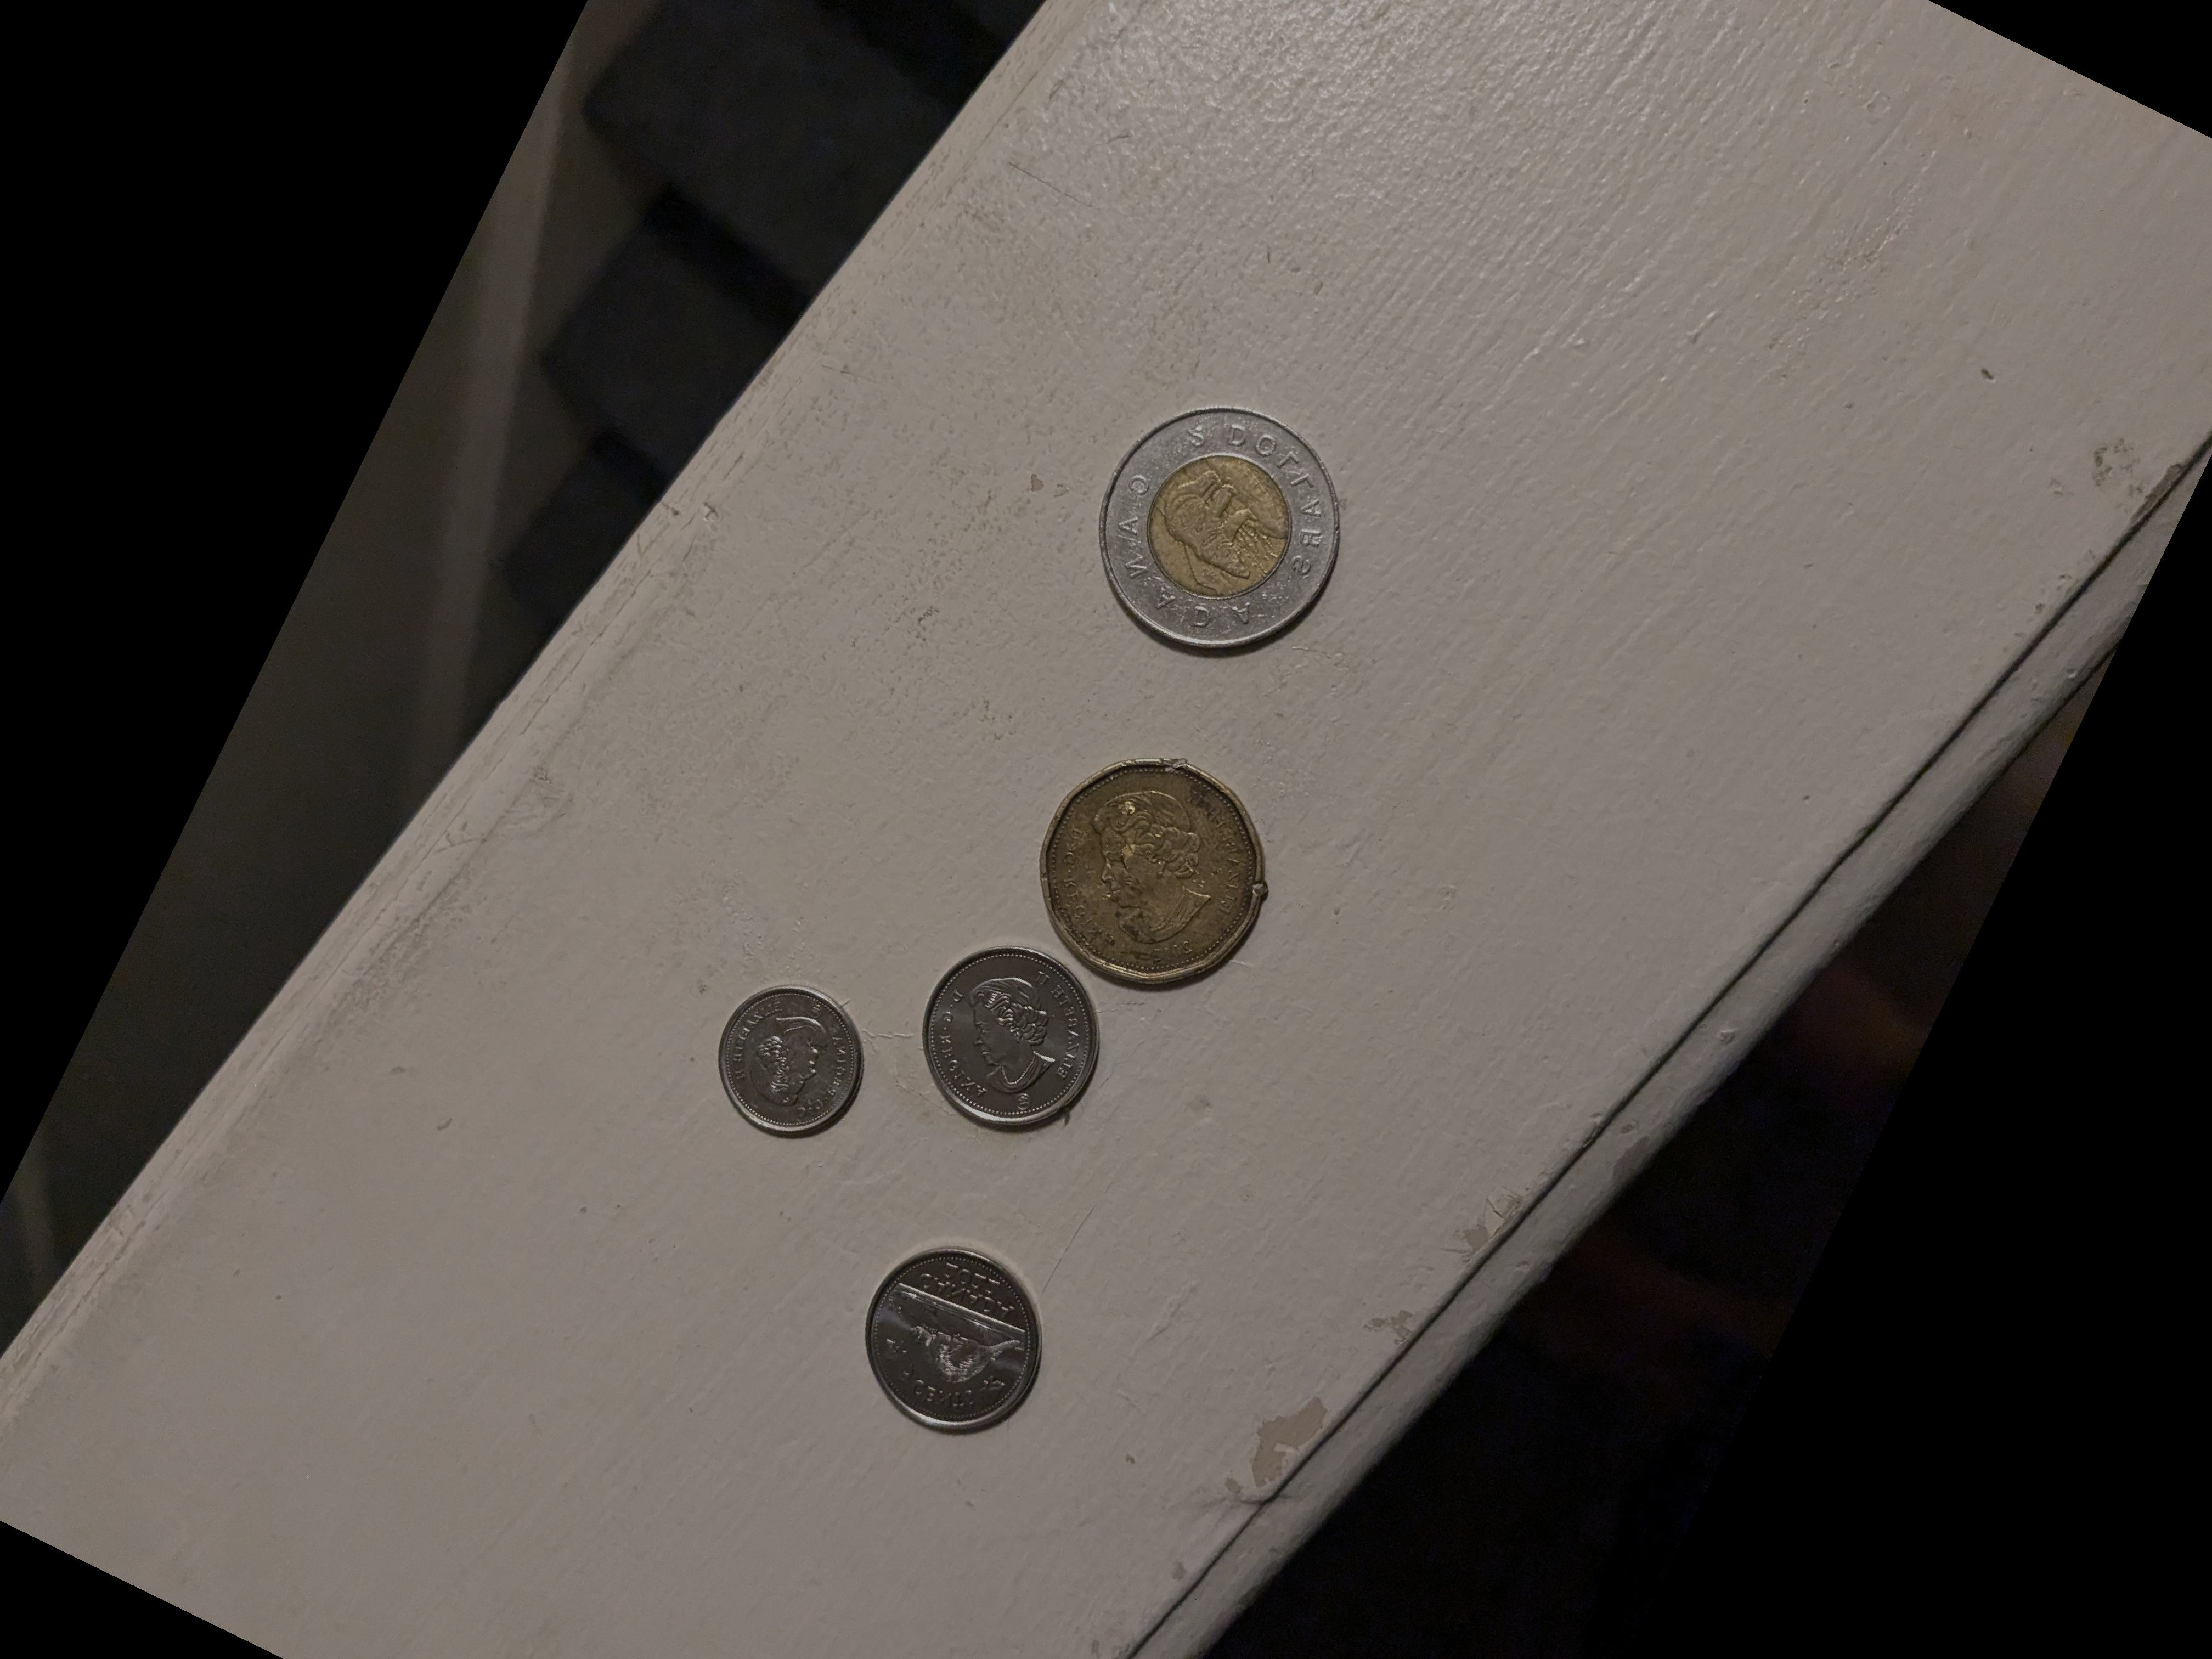dime: (721, 983, 869, 1138)
loonie: (1031, 756, 1270, 995)
nickel: (923, 941, 1108, 1134), (874, 1249, 1043, 1431)
toonie: (1108, 401, 1350, 659)
